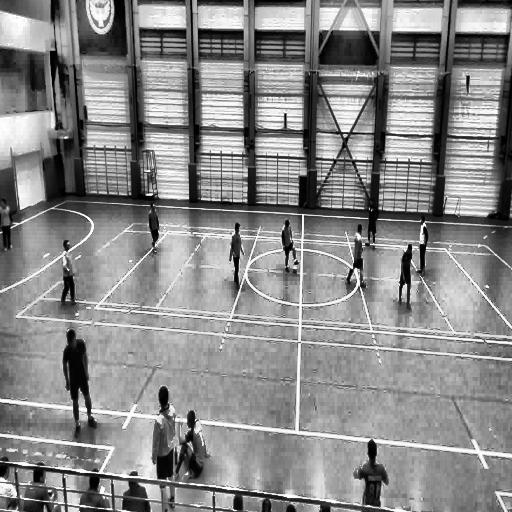ball: (292, 264, 298, 274)
player: (62, 329, 98, 437), (152, 385, 178, 512), (352, 439, 388, 512), (346, 222, 365, 286), (230, 221, 245, 290), (62, 240, 77, 306), (398, 244, 412, 308), (282, 218, 298, 272), (0, 198, 13, 250), (417, 216, 428, 276), (149, 200, 160, 253), (366, 202, 378, 248)
